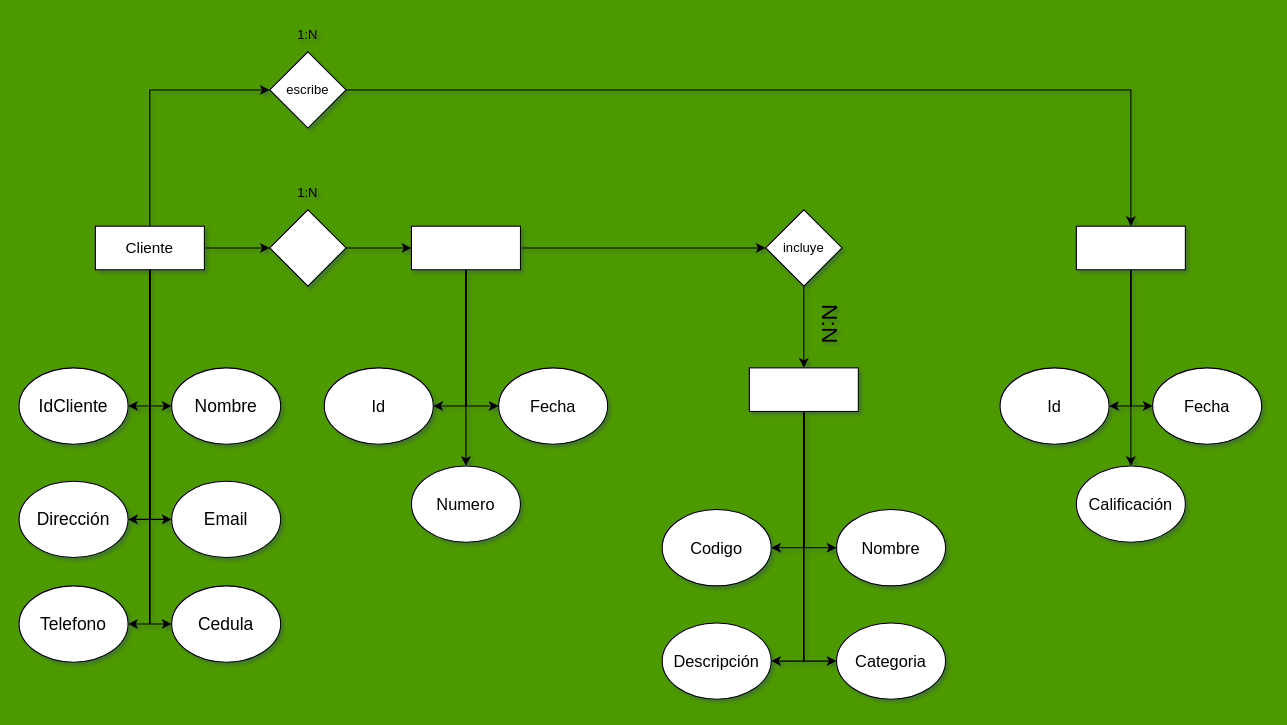
This 1287x725 diagram has some shape labels left out. The shapes that lost their labels are listed below. From the top down, each one's centre as x and y in pixels, then its label:
point (307, 247): hace
point (465, 247): Pedido
point (1130, 247): Reseña
point (803, 389): Producto
